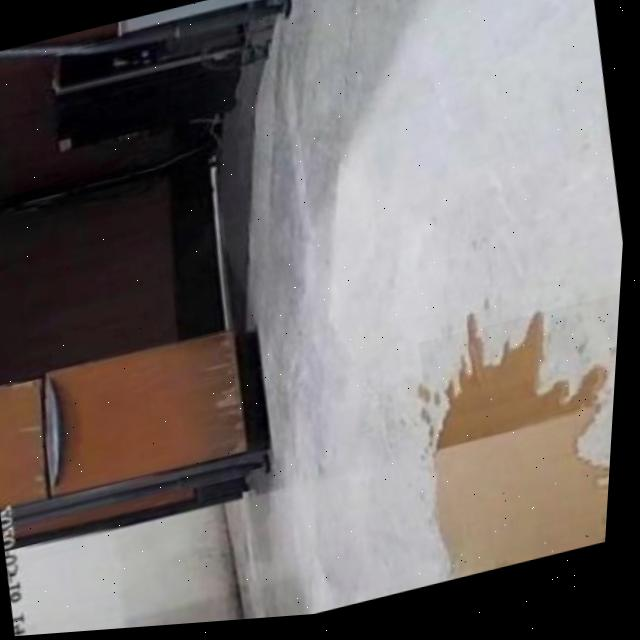spillage: (440, 321, 616, 586)
